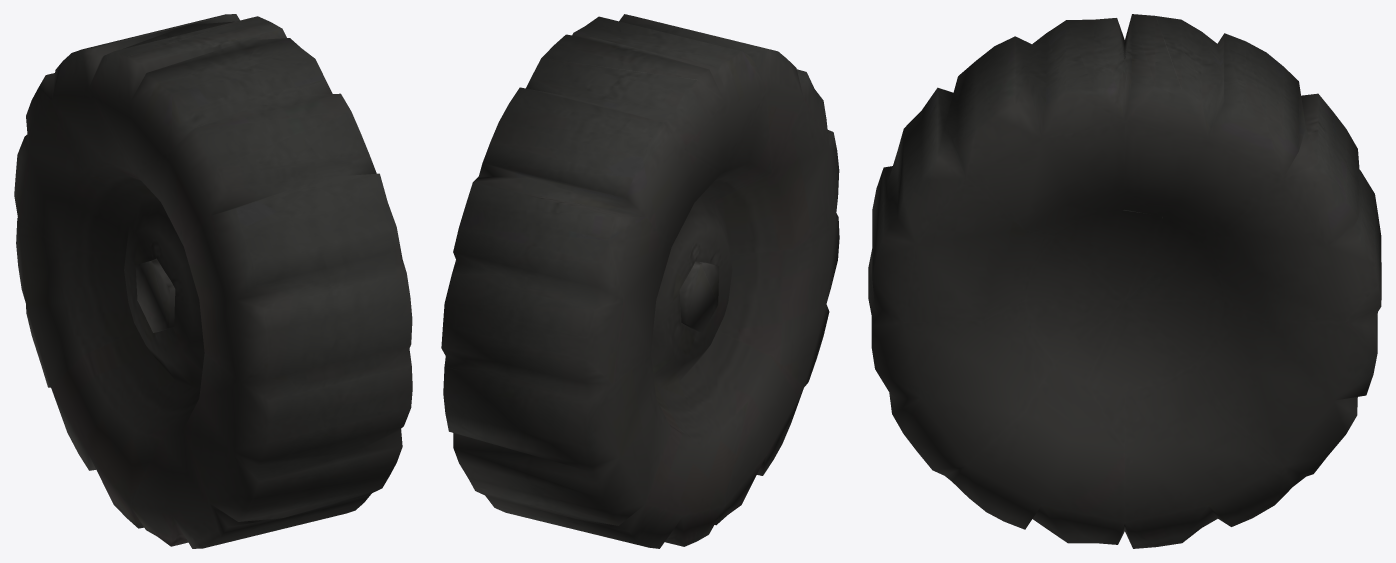
File: wheel.glb
3 renders of one model, left to right at view 1: azimuth 30°, elevation 25°; view 2: azimuth 150°, elevation 25°; view 3: azimuth 270°, elevation 25°, orthographic.
Visible parts, largest first — view 1: tripo_node_f9f46658-d623-4cfb-84ad-5e553683a73e; view 2: tripo_node_f9f46658-d623-4cfb-84ad-5e553683a73e; view 3: tripo_node_f9f46658-d623-4cfb-84ad-5e553683a73e.
Part boxes in pixels (x1,y1,x2,y2): tripo_node_f9f46658-d623-4cfb-84ad-5e553683a73e: (14, 14, 412, 548); tripo_node_f9f46658-d623-4cfb-84ad-5e553683a73e: (441, 14, 839, 548); tripo_node_f9f46658-d623-4cfb-84ad-5e553683a73e: (868, 14, 1381, 548).
Bounding box in the file's own units: 0.2864 × 0.76 × 0.76.
1 material, 1 textured.
